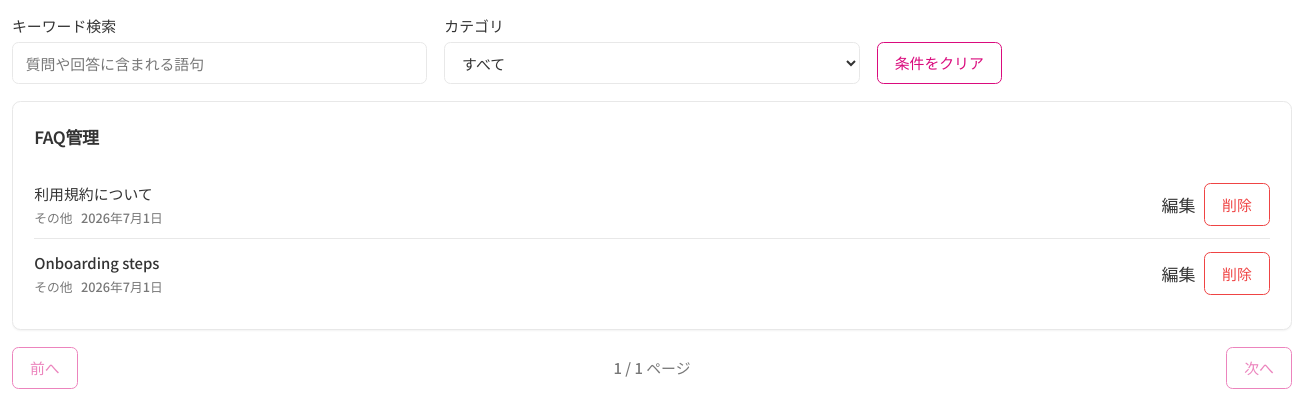
Test: FaqManagementListClient › キーワードで質問・回答を絞り込む
Type "Onboarding" into the field labelled "キーワード検索".
click(220, 63); type("Onboarding")  # box [12,42,427,84]
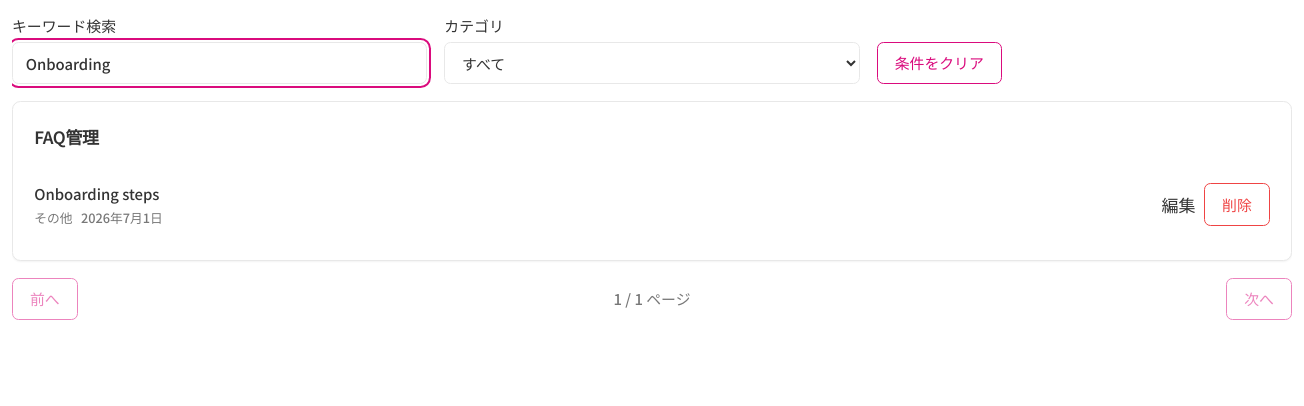
Expected: the text "Onboarding steps" is shown, [34,183,159,204]
Expected: the text "利用規約について" is gone
